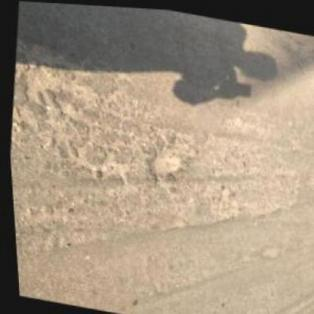Hueco: (141, 136, 184, 183)
